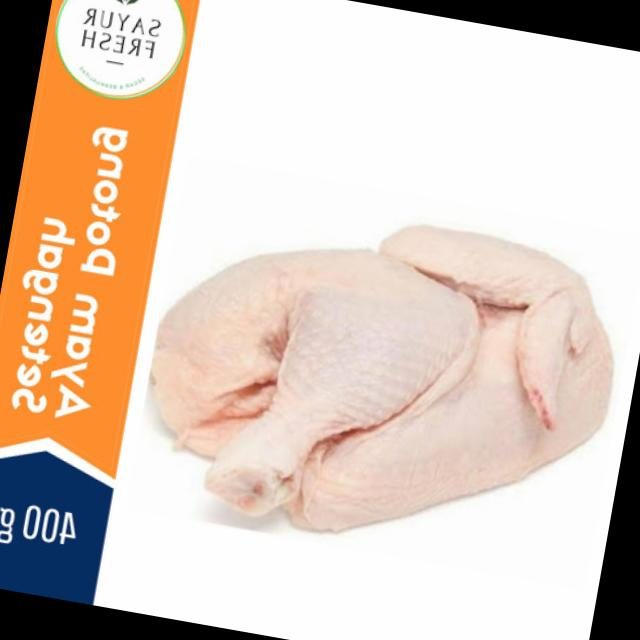chicken: (130, 179, 634, 572)
